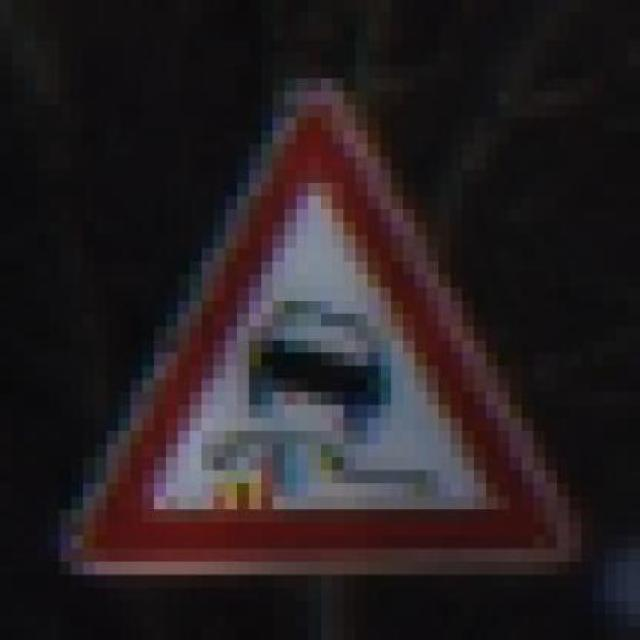Slippery Road Ahead: (35, 78, 592, 574)
